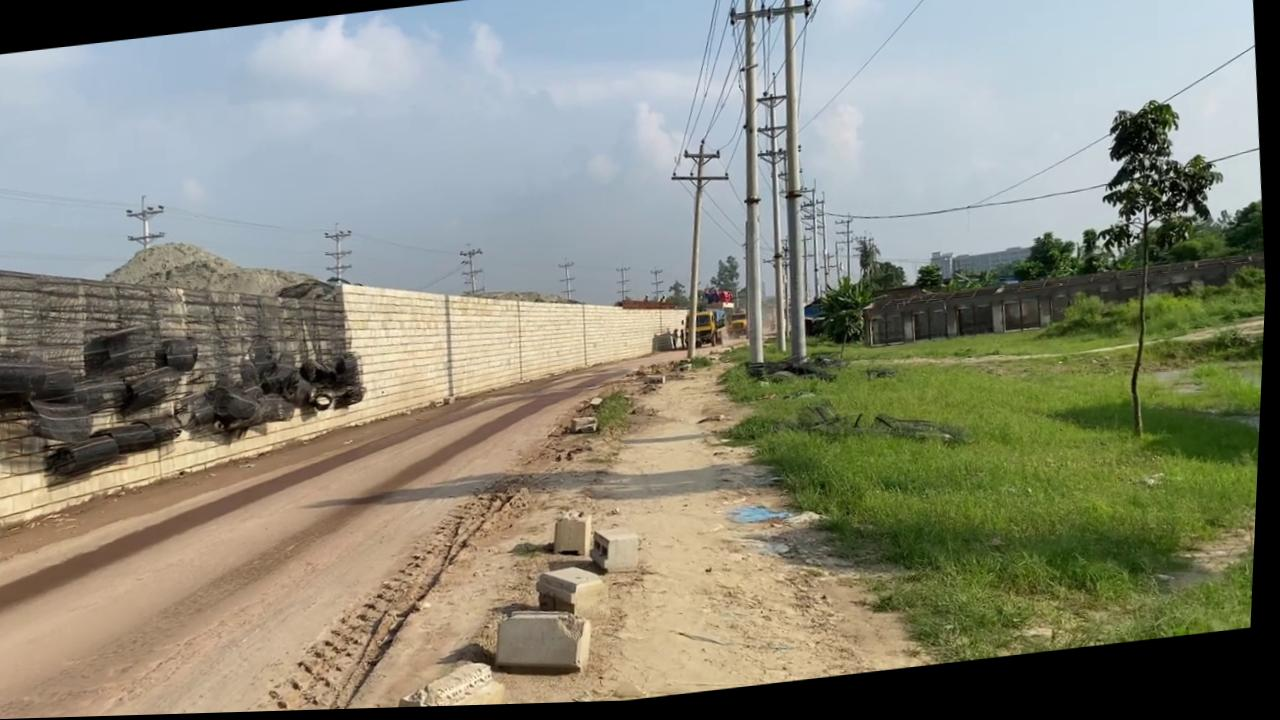Garbage: (0, 297, 375, 485)
Obstacle: (495, 605, 601, 686), (395, 660, 514, 710), (538, 565, 612, 622), (591, 529, 646, 579), (553, 513, 600, 562)
Pole: (756, 0, 838, 370), (713, 0, 790, 372), (663, 141, 746, 365)
Traffic-sign: (1079, 97, 1250, 449)
Tree: (679, 288, 752, 352), (728, 312, 751, 343)
Upstairs: (0, 185, 717, 530)
